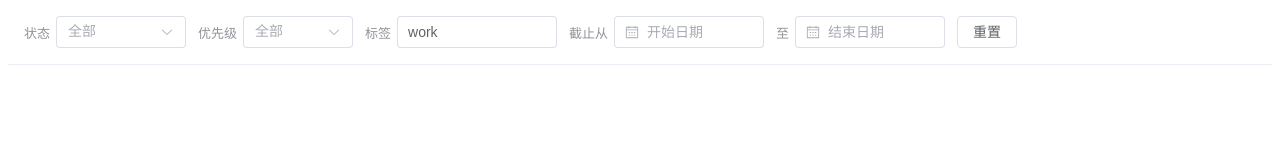
Test: TaskFilters › reset 后本地输入值清空
Expected: the field holds "work", [408,17,546,47]
Click the button with test id "filter-reset" at (987, 32), box [957,16,1017,48]
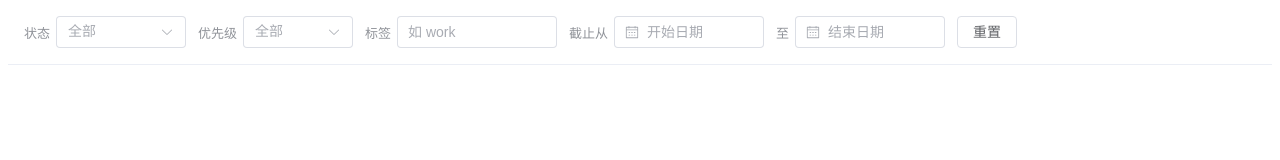
Result: the field with placeholder "如 work" is empty at [408,17,546,47]
